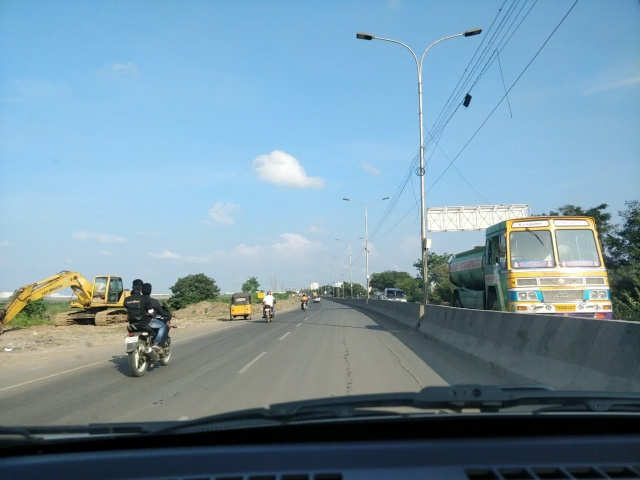auto: (229, 295, 252, 322)
car: (381, 288, 408, 301), (314, 295, 321, 305)
motorbike: (126, 283, 172, 377), (265, 293, 277, 324), (302, 297, 309, 315)
tractor: (7, 271, 125, 330)
truck: (443, 217, 620, 314)
